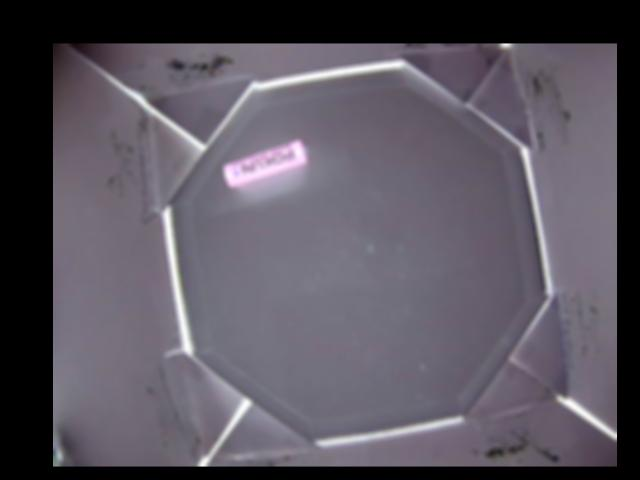Battery: (223, 139, 308, 187)
